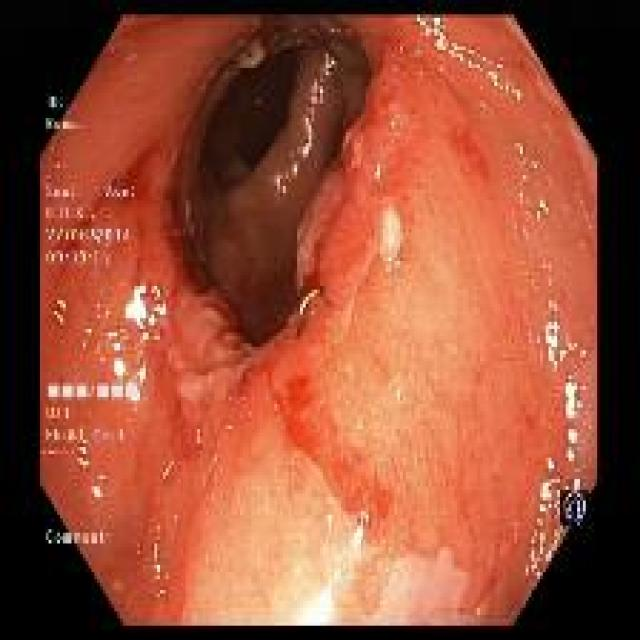ulcerative-colitis: (40, 17, 596, 623)
